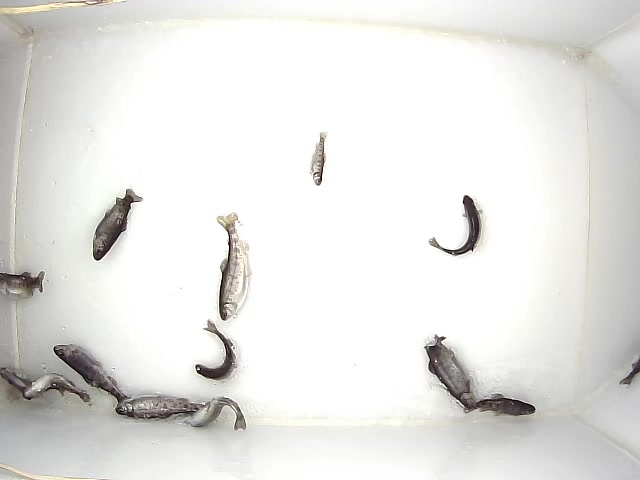fish: (53, 344, 138, 417), (423, 334, 477, 409), (216, 212, 252, 321), (93, 188, 143, 261), (429, 195, 483, 256), (195, 319, 237, 381), (173, 397, 246, 431), (115, 396, 222, 419), (23, 373, 91, 403), (465, 393, 536, 416), (1, 271, 45, 296), (309, 131, 328, 186)
